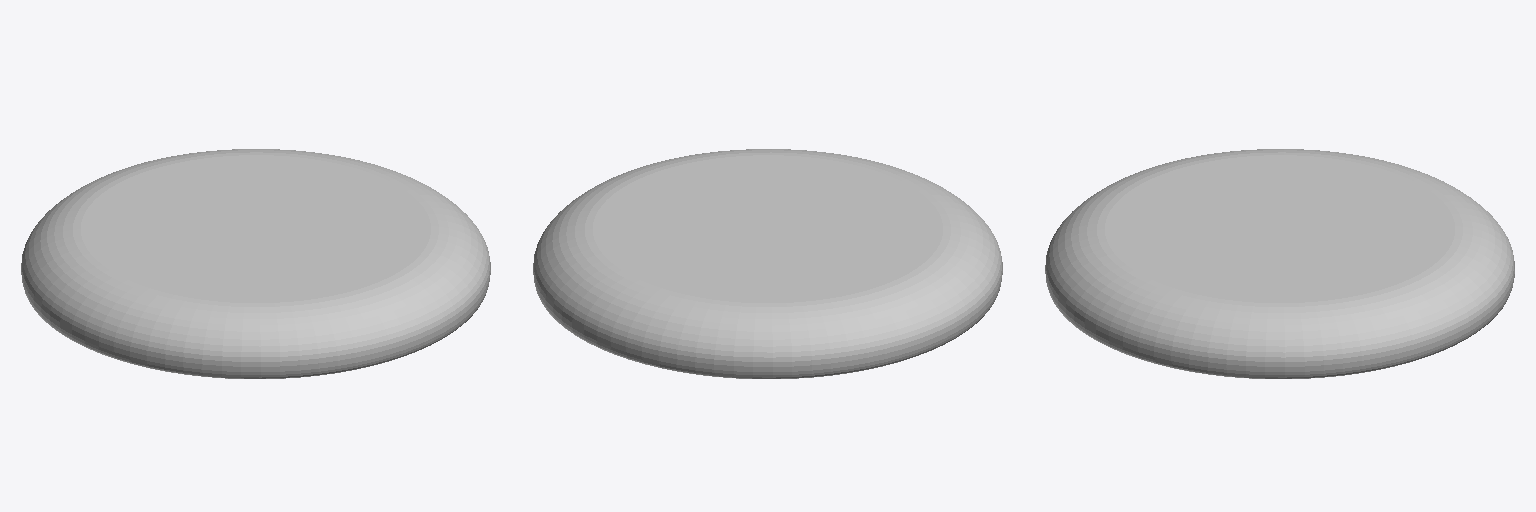
File: Frisbee V2.obj
3 views of the same model, side by side, from view 1: azimuth 30°, elevation 25°; view 2: azimuth 150°, elevation 25°; view 3: azimuth 270°, elevation 25° (orthographic).
Parts seen in each view (by area): view 1: Root|Frisbee_v2_VISUALIZE_(Default)|Merged_Parts|Part; view 2: Root|Frisbee_v2_VISUALIZE_(Default)|Merged_Parts|Part; view 3: Root|Frisbee_v2_VISUALIZE_(Default)|Merged_Parts|Part.
Boxes of the visible parts, <box> form: Root|Frisbee_v2_VISUALIZE_(Default)|Merged_Parts|Part: <box>21,149,490,378</box>; Root|Frisbee_v2_VISUALIZE_(Default)|Merged_Parts|Part: <box>533,149,1002,378</box>; Root|Frisbee_v2_VISUALIZE_(Default)|Merged_Parts|Part: <box>1045,149,1514,378</box>.
Size of the model in its own units: 0.277 by 0.0348 by 0.2769.